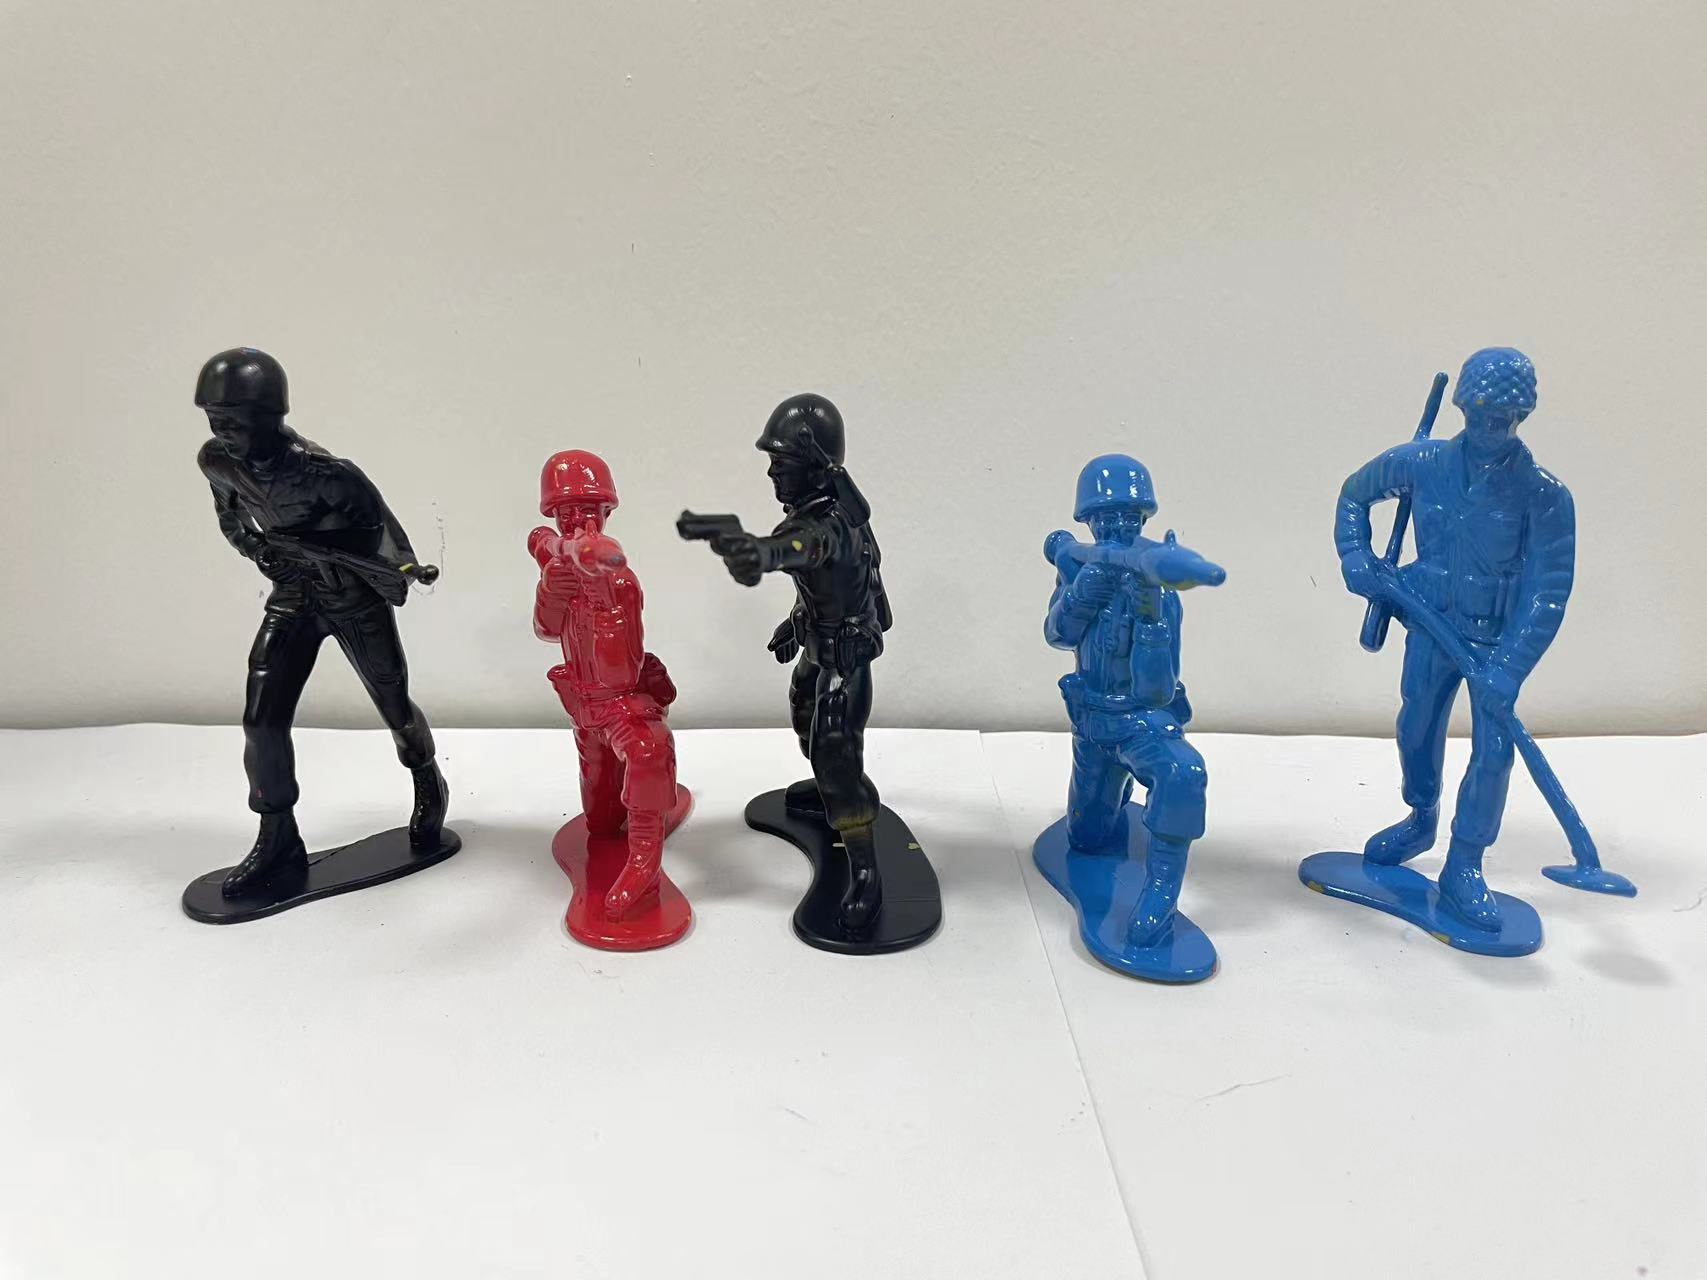black: (142, 328, 484, 930), (677, 370, 987, 972)
blue: (1288, 301, 1656, 1004), (1026, 409, 1251, 1021)
red: (517, 397, 703, 1011)
